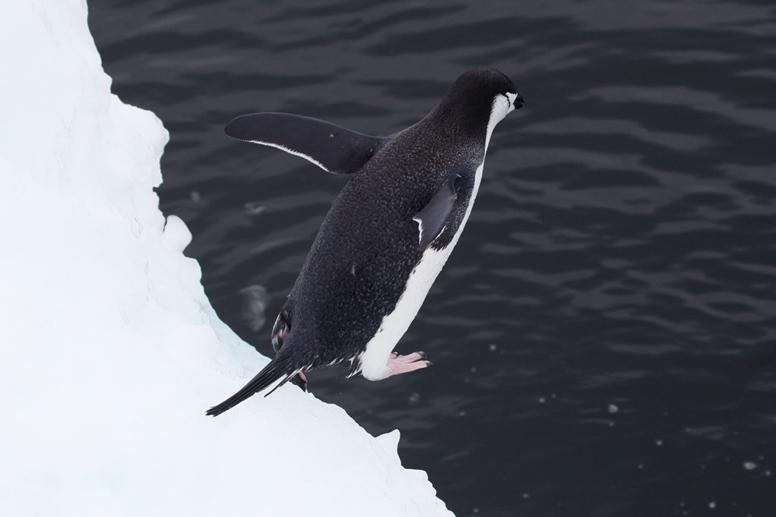chinstrap: (173, 59, 533, 446)
